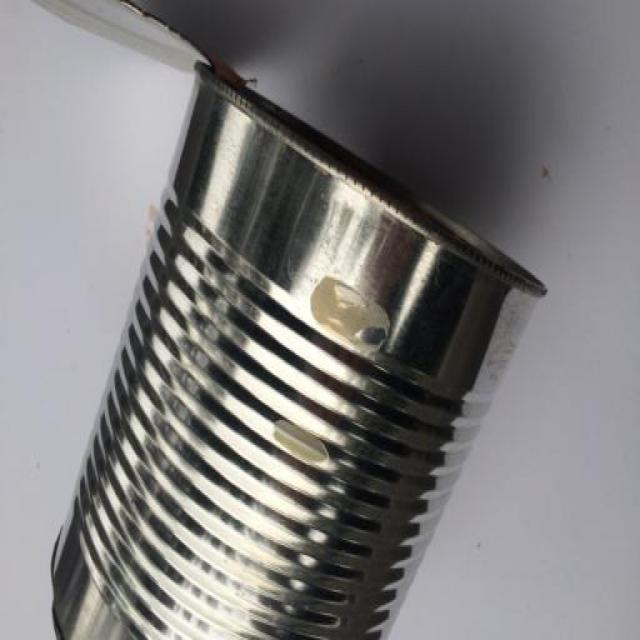metel: (1, 1, 566, 640)
